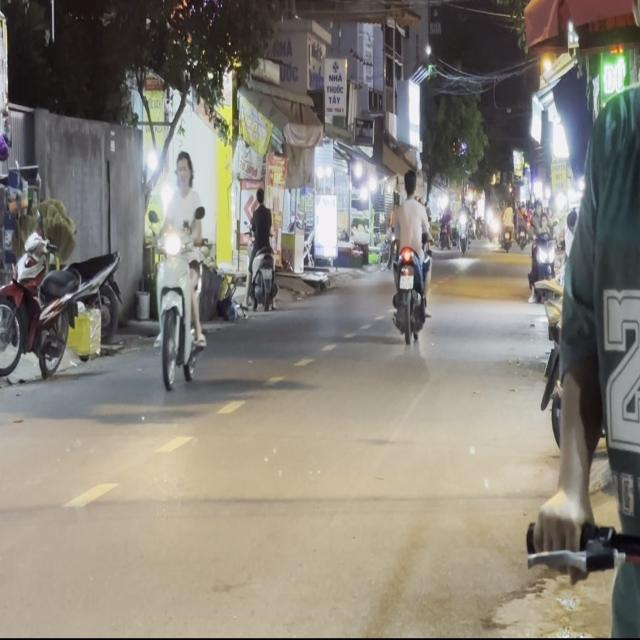licenseplate: (150, 145, 210, 391), (388, 167, 432, 344)
motorcyclist: (172, 147, 194, 190), (402, 168, 416, 196)
nohelmet: (400, 274, 412, 288)
